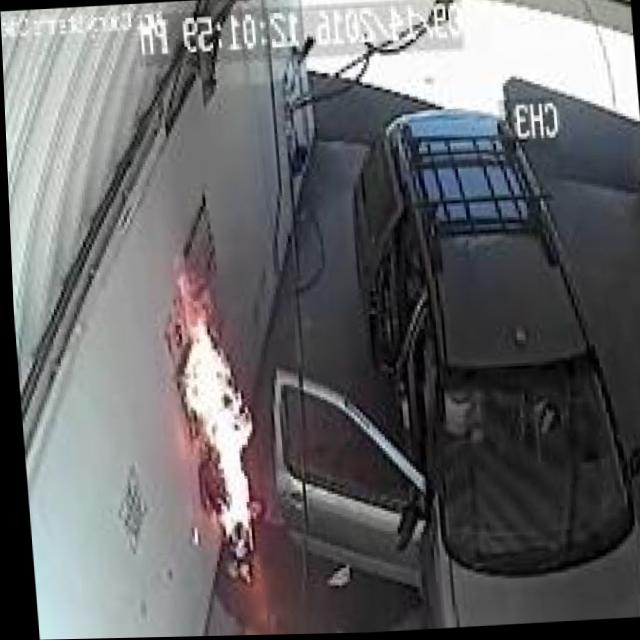fire: (162, 256, 264, 572)
